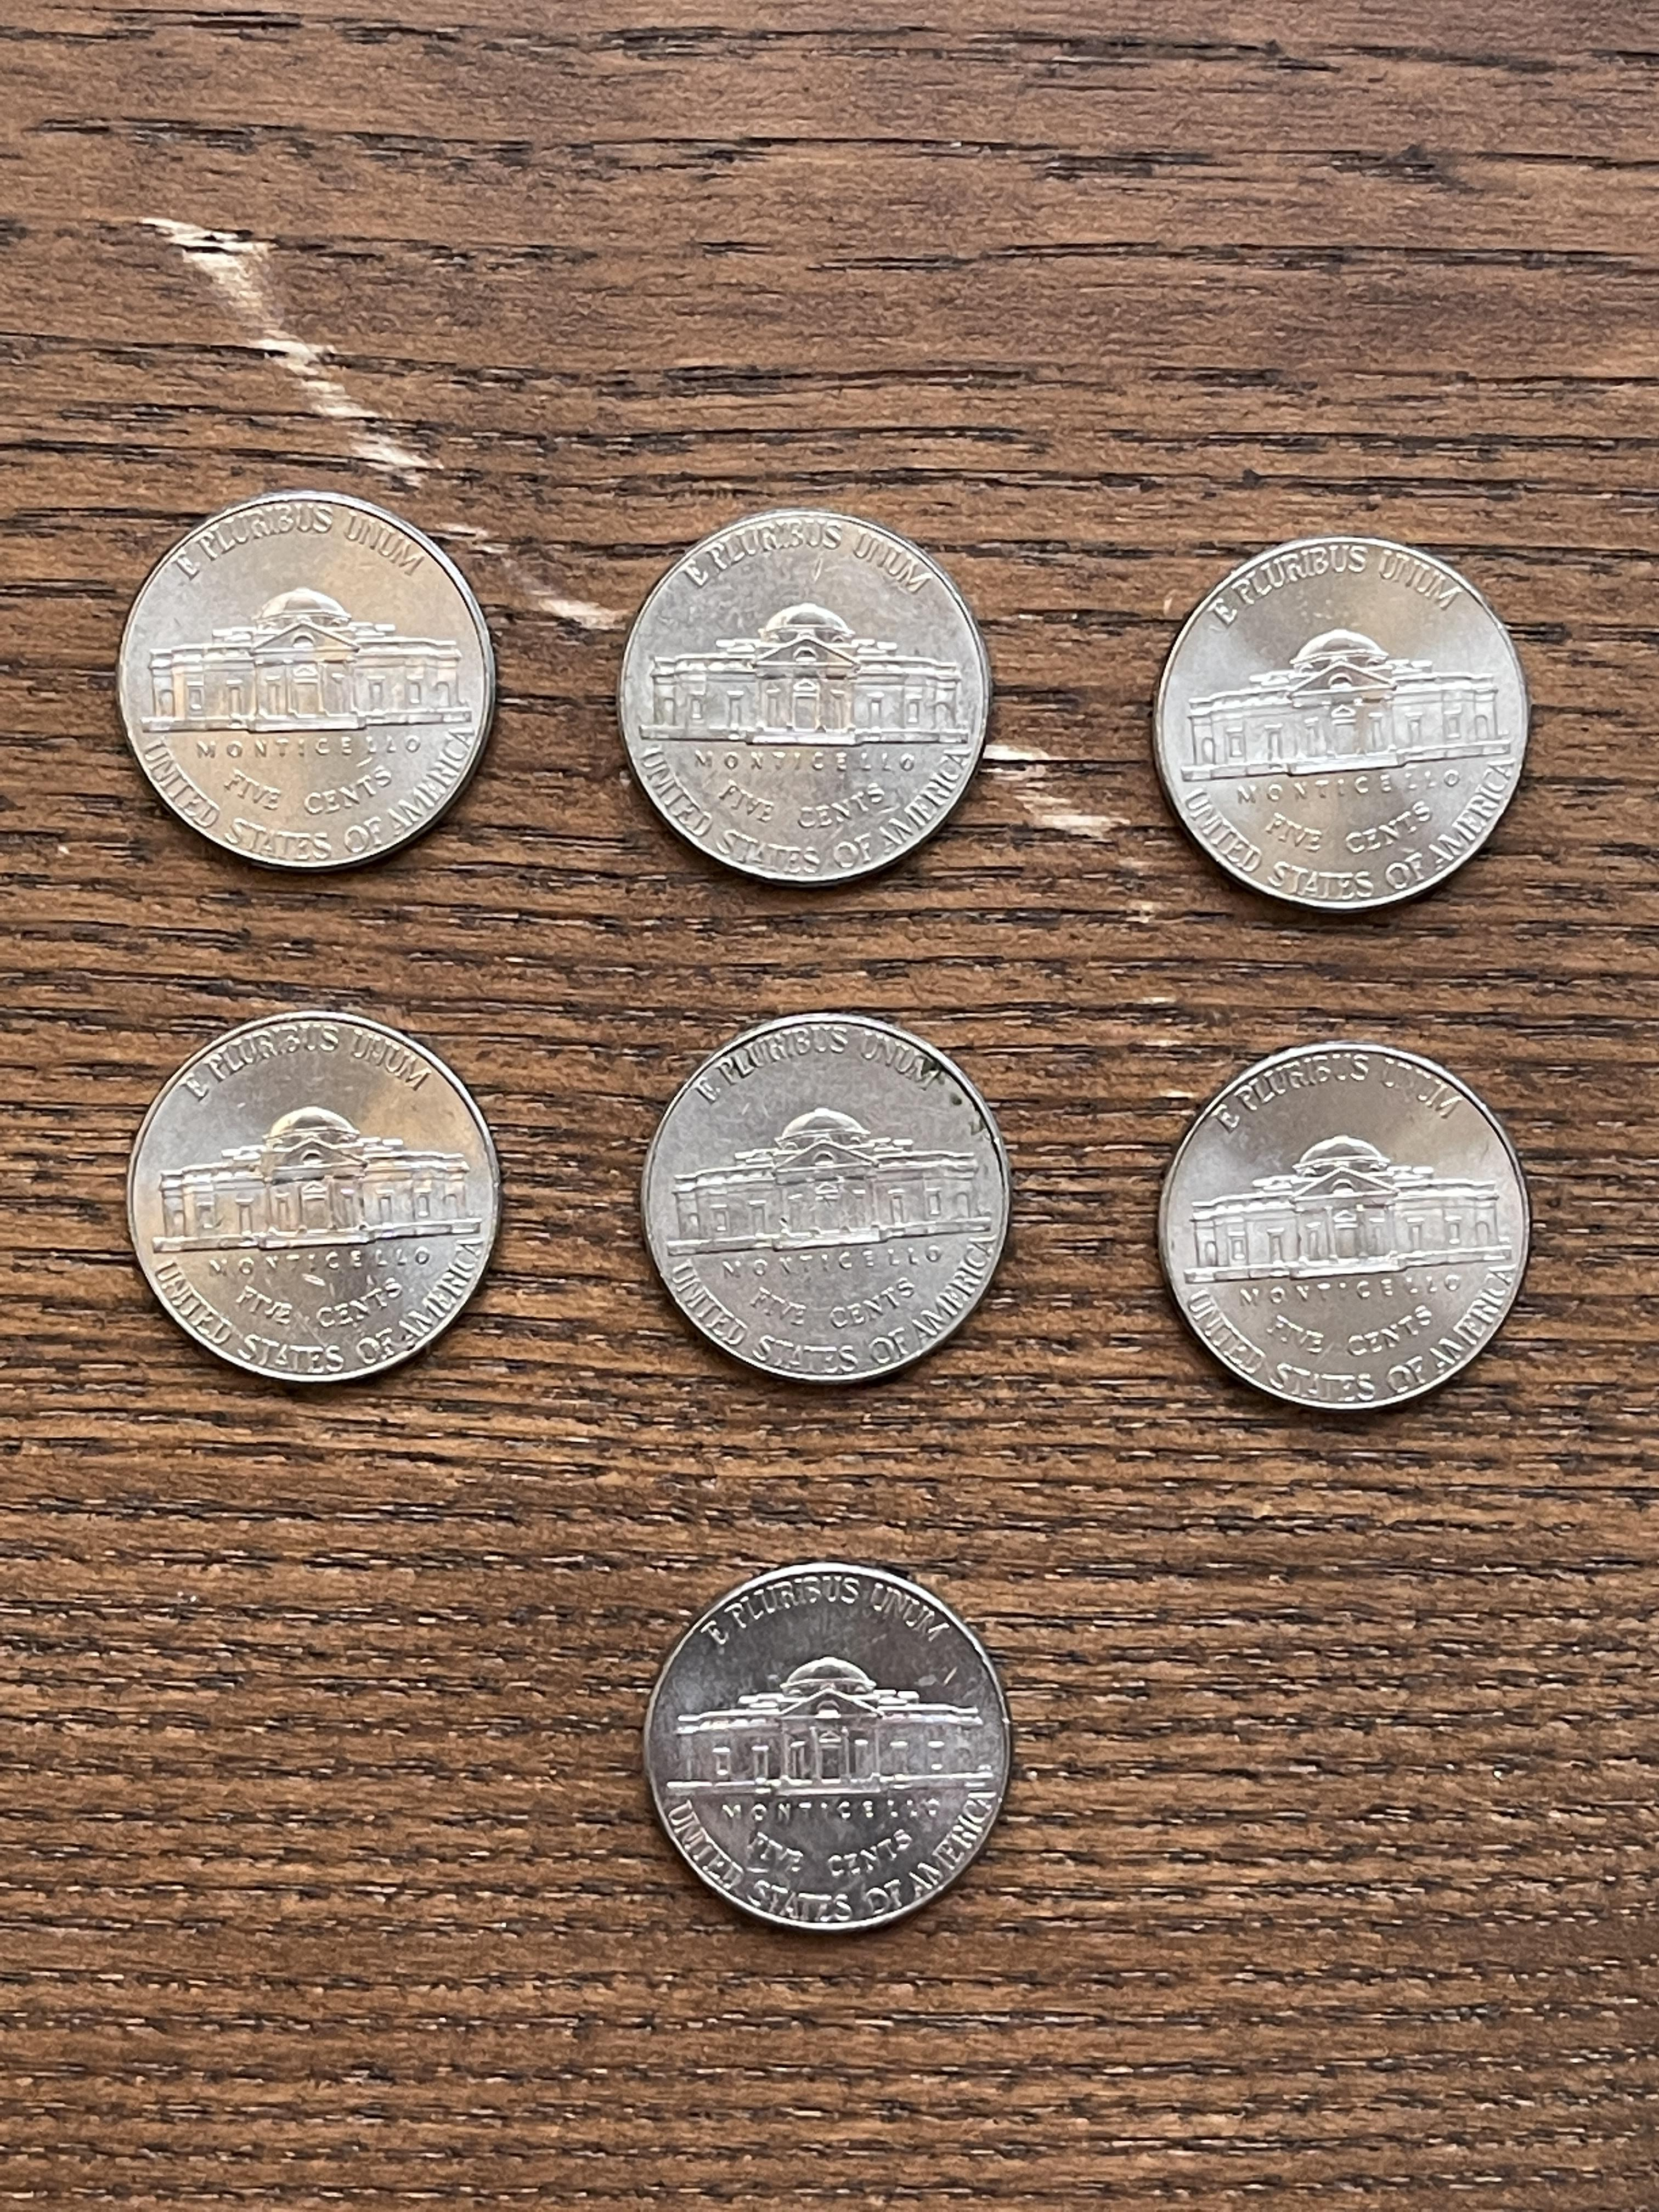Nickel: (1148, 531, 1532, 921), (615, 505, 999, 890), (1154, 1038, 1535, 1420), (638, 1557, 1018, 1940), (115, 493, 498, 871), (124, 1008, 507, 1385), (638, 1014, 1018, 1390)
